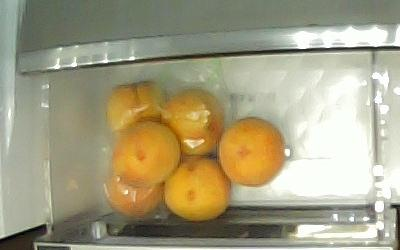peach: (218, 118, 285, 186), (163, 157, 230, 219), (113, 123, 179, 184)
peach_vinyl: (159, 90, 222, 156), (104, 81, 168, 135), (104, 169, 164, 216)
